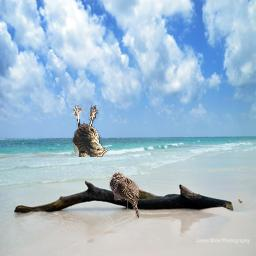Sparrow: (72, 105, 108, 157), (109, 172, 139, 218)
